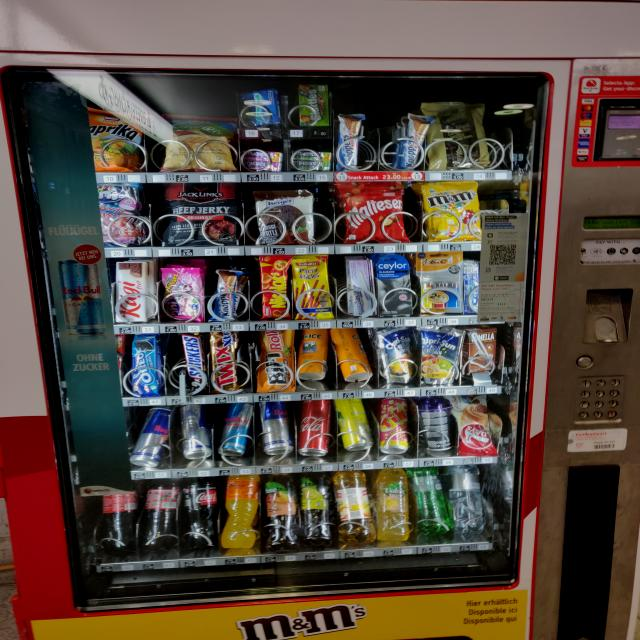7days_croissantschoko_packung_80_1_0000000000003: (458, 398, 496, 455)
airwaves_menthoneucalyptus_riegel_14_1_50173167: (242, 86, 282, 127)
bifi_roll__50__4251097402635: (256, 327, 296, 393)
c-swiss_dosenabisicetea__33__9120025930135: (330, 328, 370, 382), (296, 327, 334, 382)
caferoyal_classicmacchiato__33__7617014164487: (418, 397, 457, 454)
caprisun_multivitamin__20__4000177605004: (417, 324, 463, 388), (377, 326, 416, 386)
coke__dose_33__54491472: (296, 400, 332, 459)
coke__flasche_50__54491472: (97, 482, 144, 554), (143, 481, 180, 551)
coke_zero_flasche_50__5449000131836: (180, 476, 223, 550)
comella_schokodrink__33__7613100037253: (465, 326, 501, 375)
fanta___50__40822938: (222, 474, 260, 550)
fini_galaxymix_packung_100_1_8410525150364: (88, 183, 145, 249)
fini_jellykisses_packung_80_1_8410525116704: (159, 264, 204, 320)
fuse_lemon__50__5449000235947: (298, 472, 331, 547)
fuse_lemon_dose_33__5449000235947: (337, 399, 374, 456)
fuse_peach__50__5449000236623: (265, 472, 301, 550)
jacklinks_beefjerkyorginal__25__4047751730219: (164, 180, 241, 250)
jlbrichard_gauffrechoko__90__5410495002079: (422, 103, 494, 169)
kagi___50__7610046000259: (113, 258, 153, 325)
knoppers_riegel____4035800488808: (209, 268, 248, 321)
lorenz_nicnacs__40__4018077798818: (260, 256, 293, 322)
malburner_partysticks__40__7610200279682: (291, 256, 334, 322)
maltesers___100__5000159023061: (335, 181, 409, 245)
mnms_gelb__45__40111445: (420, 183, 484, 241)
oreo___66__84100733: (132, 335, 163, 396)
ramseier_schorle__50__7610057012456: (331, 470, 371, 545)
redbull___33__90162909: (130, 407, 171, 469), (180, 404, 215, 461), (261, 400, 293, 455)
redbull_light__33__90162800: (221, 404, 253, 457)
skittles_sour_riegel_51_1_0000000000004: (299, 79, 335, 130)
snickers___50__5000159461122: (186, 330, 210, 396)
stimorol_spearmint_riegel_14_1_0000000000005: (291, 149, 332, 172)
stimorol_wildcherry_riegel_14_1_57060330: (243, 149, 283, 173)
tiki_himbeer_brause__50__00000000009342: (379, 396, 414, 455)
twix___50__5000159459228: (210, 331, 239, 394)
valser_classic__50__76404160: (414, 468, 452, 536)
valser_still__50__7610335002575: (448, 463, 483, 539)
volvic_pinapple__50__305764335648: (372, 467, 410, 541)
zweifel_graneochilli__100__7610095184009: (158, 112, 238, 169)
zweifel_paprika__90__7610095013002: (80, 111, 144, 174)
